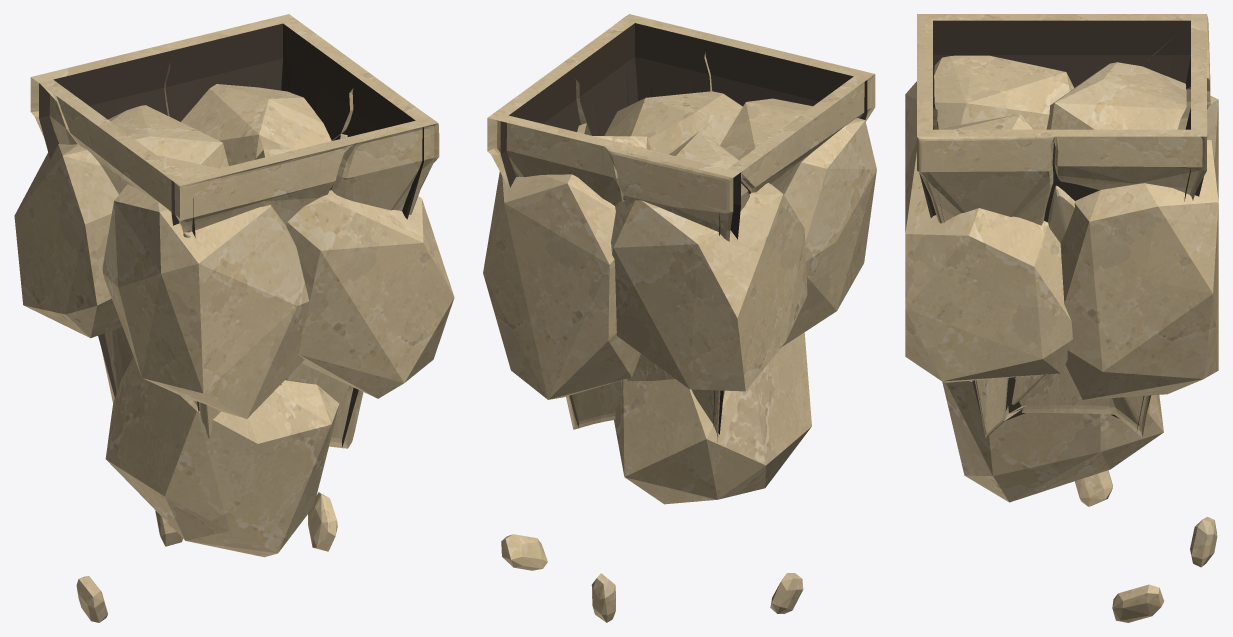
Rendered from ground_bottom_island_06.glb.
3 views of the same model, side by side, from view 1: azimuth 30°, elevation 25°; view 2: azimuth 150°, elevation 25°; view 3: azimuth 270°, elevation 25° (orthographic). The views are drawn at different scales.
Parts seen in each view (by area): view 1: GroundBottomIsland06_Body; view 2: GroundBottomIsland06_Body; view 3: GroundBottomIsland06_Body.
Part boxes in pixels (<box>): GroundBottomIsland06_Body: <box>14,14,454,622</box>; GroundBottomIsland06_Body: <box>483,14,876,622</box>; GroundBottomIsland06_Body: <box>905,14,1218,622</box>.
Bounding box in the file's own units: 1.08 × 1.86 × 1.08.
14 materials, 13 textured.
